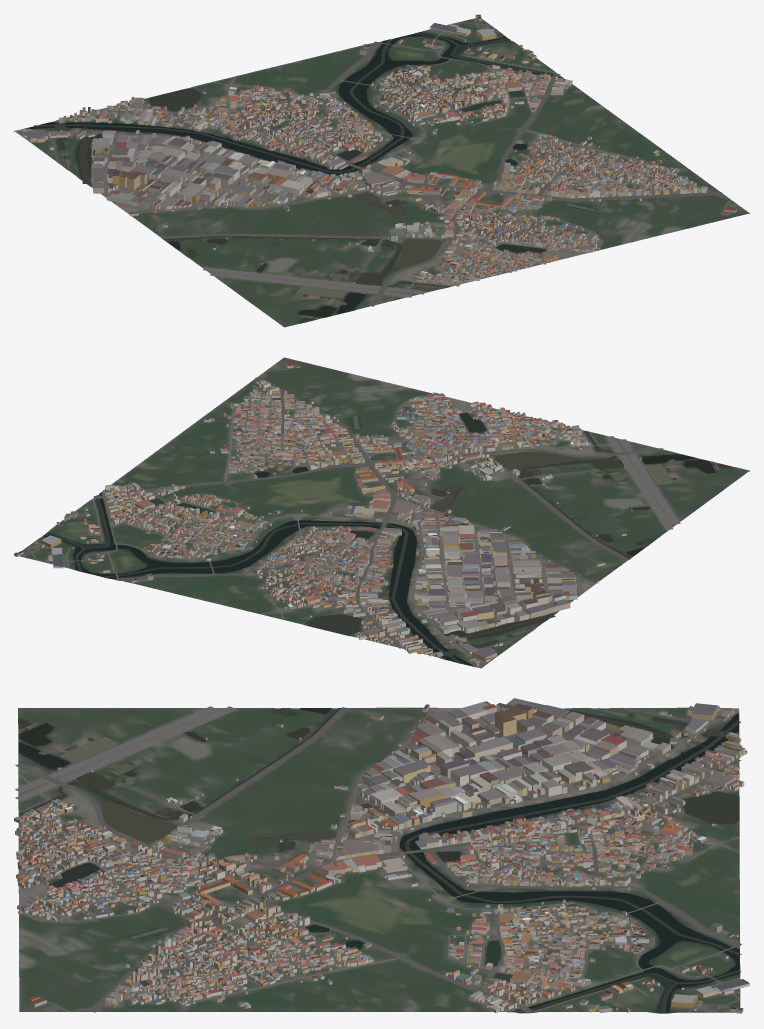
3 views of the same model, one above another, from view 1: azimuth 30°, elevation 25°; view 2: azimuth 150°, elevation 25°; view 3: azimuth 270°, elevation 25° (orthographic). The views are drawn at different scales.
Parts seen in each view (by area): view 1: ground, buildings, water, roads; view 2: ground, buildings, water, roads; view 3: ground, buildings, water, roads.
Boxes of the visible parts, <box> form: ground: <box>14,18,749,327</box>; buildings: <box>22,14,736,293</box>; water: <box>24,32,594,323</box>; roads: <box>18,18,730,318</box>; ground: <box>19,357,749,668</box>; buildings: <box>14,360,641,665</box>; water: <box>42,413,732,666</box>; roads: <box>22,369,719,665</box>; ground: <box>18,707,740,1013</box>; buildings: <box>14,698,749,1013</box>; water: <box>18,708,741,1013</box>; roads: <box>15,706,741,1012</box>.
Size of the model in its own units: 1419 by 38.31 by 1431.
